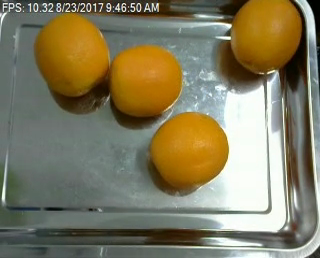Orange: (32, 12, 107, 95), (149, 111, 229, 185), (109, 45, 183, 116), (230, 1, 301, 73)
